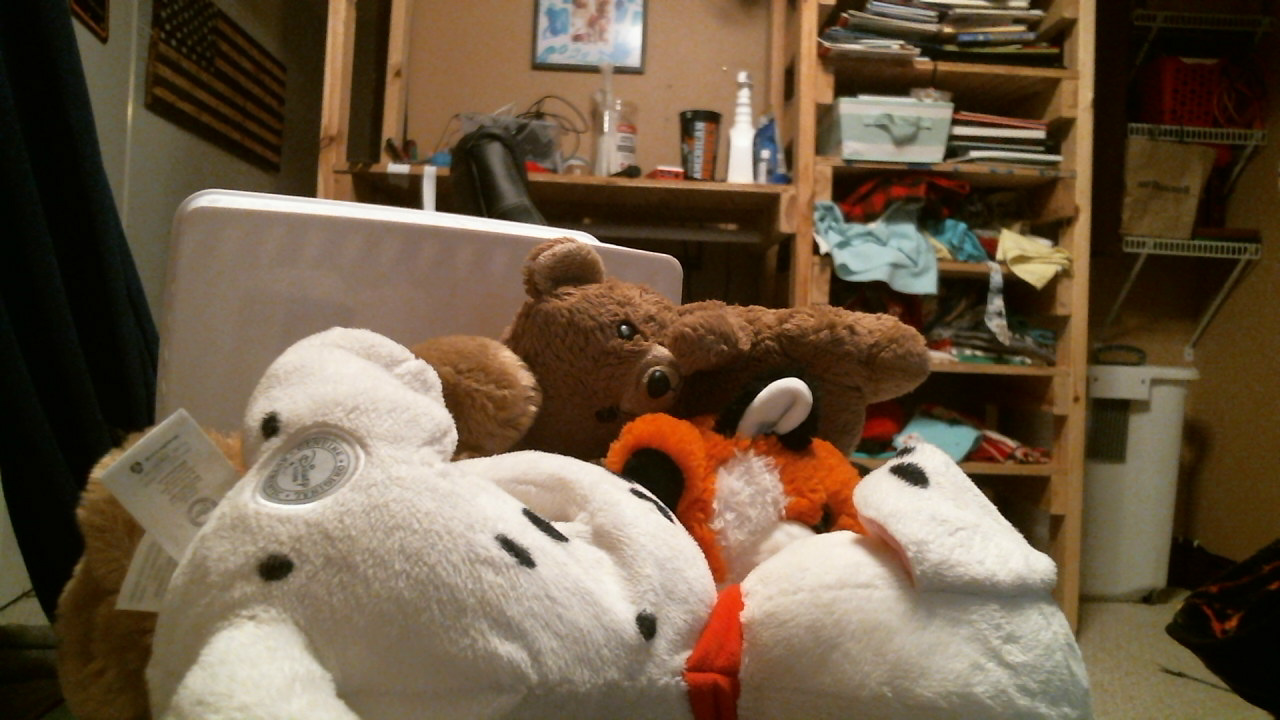Little_Mister_Bear: (593, 316, 675, 426)
